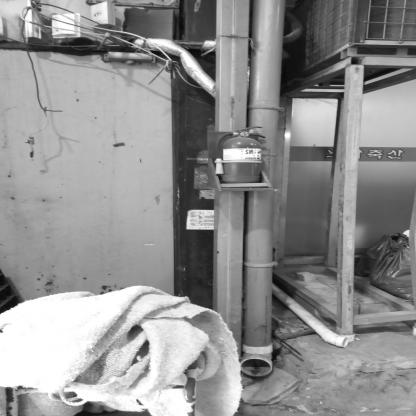FE: (212, 125, 267, 184)
